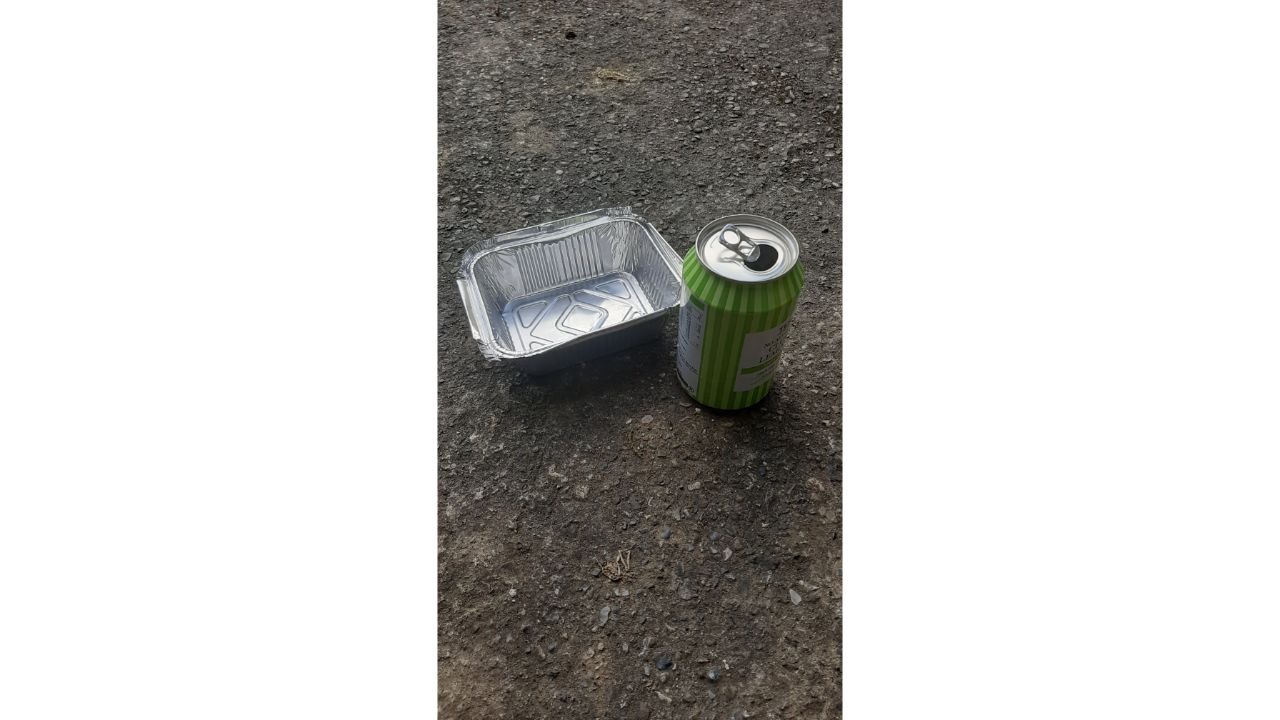Can: (666, 206, 809, 420)
